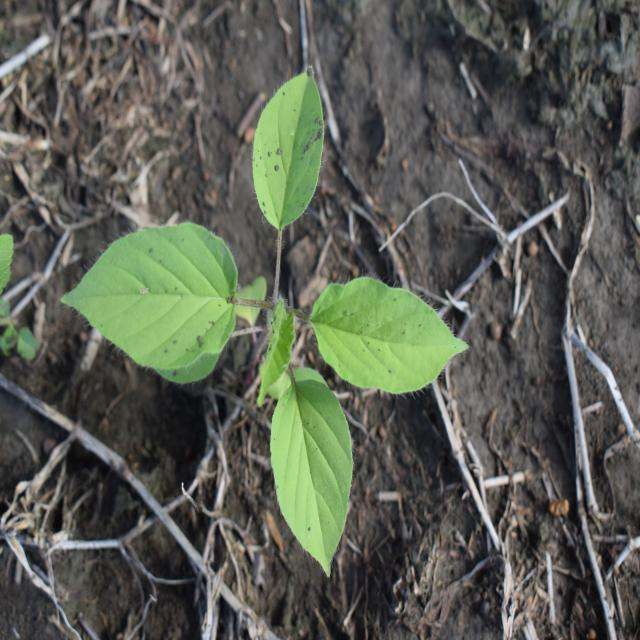MorningGlory: (59, 63, 473, 581)
